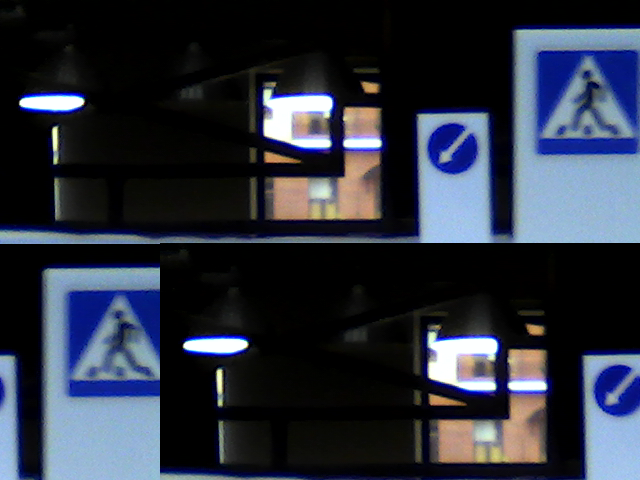pesh: (536, 48, 639, 157), (67, 288, 161, 396)
prep: (427, 121, 480, 171), (594, 362, 639, 419)
